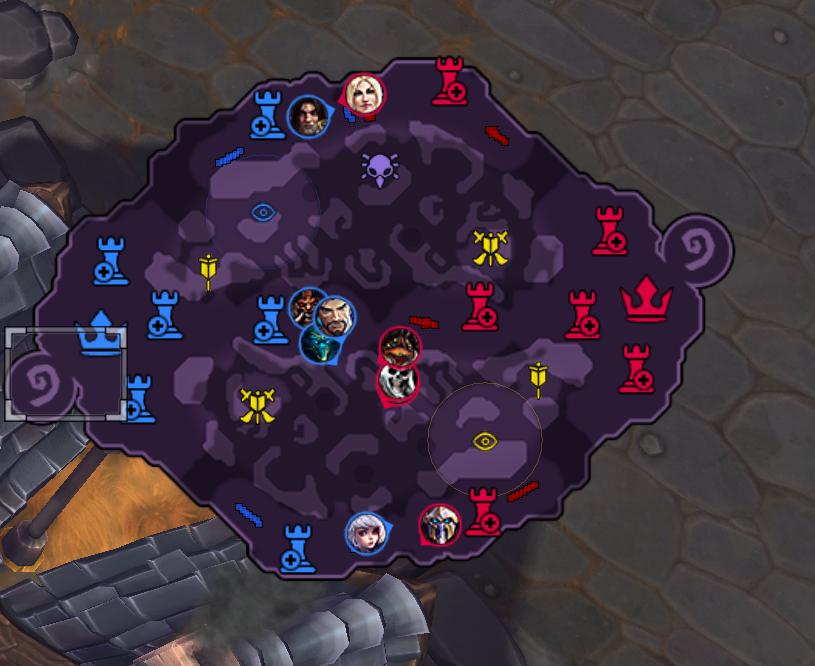blue nexus: (74, 308, 125, 356)
blue player: (286, 94, 335, 141), (344, 511, 391, 557), (313, 295, 356, 339), (299, 323, 342, 367), (288, 286, 327, 330)
blue tower: (252, 292, 291, 346), (249, 88, 288, 141), (92, 234, 131, 286), (279, 521, 318, 572), (145, 289, 184, 340), (123, 372, 158, 423)
red nexus: (619, 274, 674, 324)
red player: (337, 73, 386, 121), (418, 502, 462, 549), (377, 325, 421, 370), (378, 364, 422, 409)
red tower: (590, 204, 628, 257), (430, 55, 467, 107), (564, 288, 601, 340), (463, 281, 501, 331), (465, 486, 502, 537), (618, 343, 655, 394)
